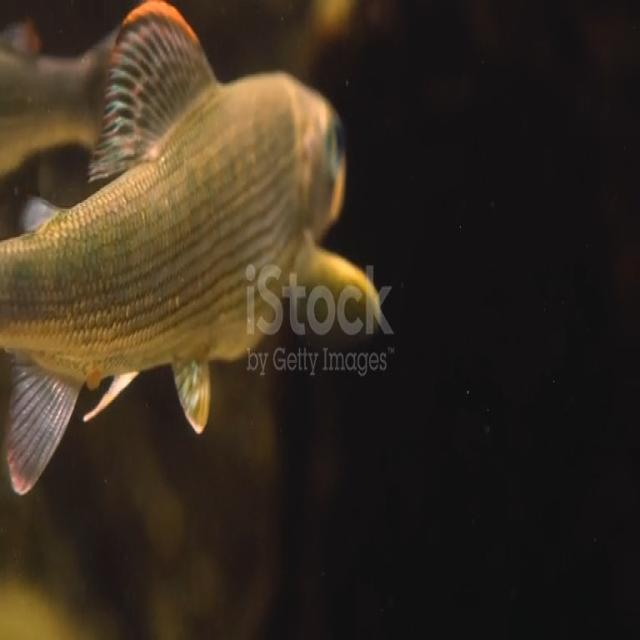fish: (1, 2, 384, 500)
